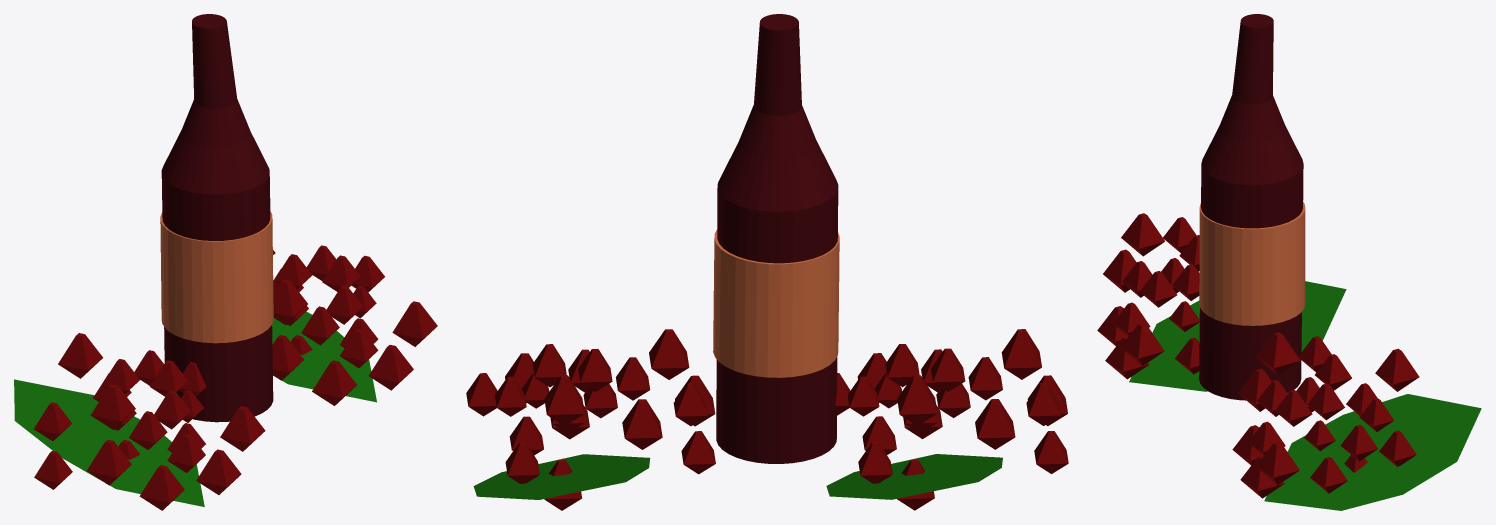
The model's file is Wine.dae.
The picture shows the model from 3 angles, left to right: view 1: azimuth 30°, elevation 25°; view 2: azimuth 150°, elevation 25°; view 3: azimuth 270°, elevation 25°; orthographic projection. The views are drawn at different scales.
Visible parts, largest first — view 1: Cylinder, Cylinder_001, Plane, Plane_001, Sphere_014, Sphere_008, Sphere_028, Sphere_010, Sphere_031, Sphere_012, Sphere_029, Sphere_013 (+19 smaller); view 2: Cylinder, Cylinder_001, Plane_001, Plane, Sphere_025, Sphere_028, Sphere_014, Sphere_011, Sphere_026, Sphere_013, Sphere_006, Sphere_030 (+19 smaller); view 3: Cylinder, Plane_001, Cylinder_001, Plane, Sphere_025, Sphere_026, Sphere_008, Sphere_013, Sphere_031, Sphere_036, Sphere_039, Sphere_002 (+23 smaller).
Boxes of the visible parts, box(x1,y1,x2,y2) form: Cylinder: box(161, 14, 273, 422); Cylinder_001: box(160, 211, 273, 343); Plane: box(14, 379, 204, 506); Plane_001: box(272, 311, 376, 402); Sphere_014: box(58, 333, 103, 378); Sphere_008: box(220, 406, 265, 451); Sphere_028: box(312, 360, 356, 405); Sphere_010: box(196, 449, 241, 494); Sphere_031: box(392, 301, 437, 346); Sphere_012: box(87, 440, 131, 485); Sphere_029: box(369, 345, 413, 390); Sphere_013: box(90, 384, 135, 429); Cylinder: box(716, 14, 838, 463); Cylinder_001: box(713, 229, 839, 377); Plane_001: box(473, 454, 650, 499); Plane: box(826, 454, 1002, 499); Sphere_025: box(544, 375, 584, 426); Sphere_028: box(622, 399, 662, 449); Sphere_014: box(897, 375, 937, 425); Sphere_011: box(975, 399, 1015, 449); Sphere_026: box(649, 329, 689, 379); Sphere_013: box(1001, 329, 1041, 379); Sphere_006: box(931, 348, 965, 391); Sphere_030: box(616, 357, 650, 400); Cylinder: box(1199, 14, 1303, 400); Plane_001: box(1264, 394, 1481, 510); Cylinder_001: box(1199, 202, 1305, 325); Plane: box(1129, 281, 1346, 391); Sphere_025: box(1375, 348, 1419, 391); Sphere_026: box(1256, 332, 1300, 375); Sphere_008: box(1120, 323, 1164, 365); Sphere_013: box(1121, 213, 1164, 256); Sphere_031: box(1255, 442, 1299, 484); Sphere_036: box(1307, 383, 1344, 420); Sphere_039: box(1340, 424, 1377, 461); Sphere_002: box(1139, 271, 1176, 307).
Size of the model in its own units: 0.9724 by 0.7561 by 0.8858.
